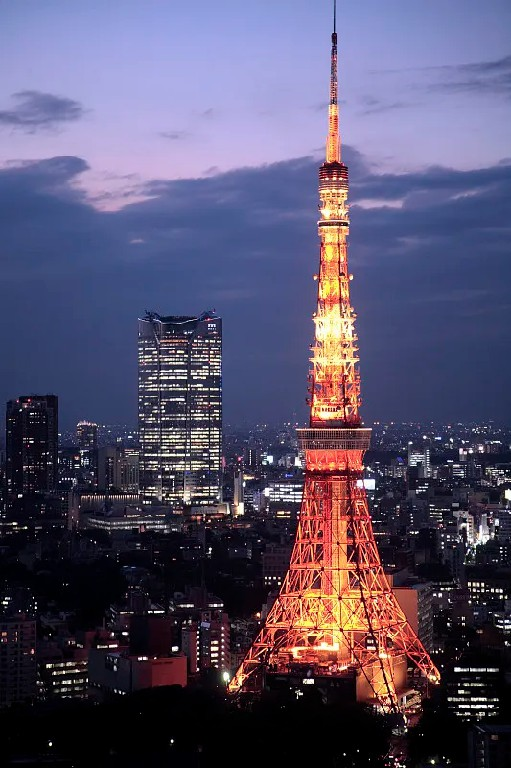Tokyo: (226, 1, 443, 694)
